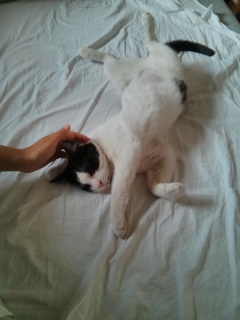Cat: (48, 13, 215, 237)
